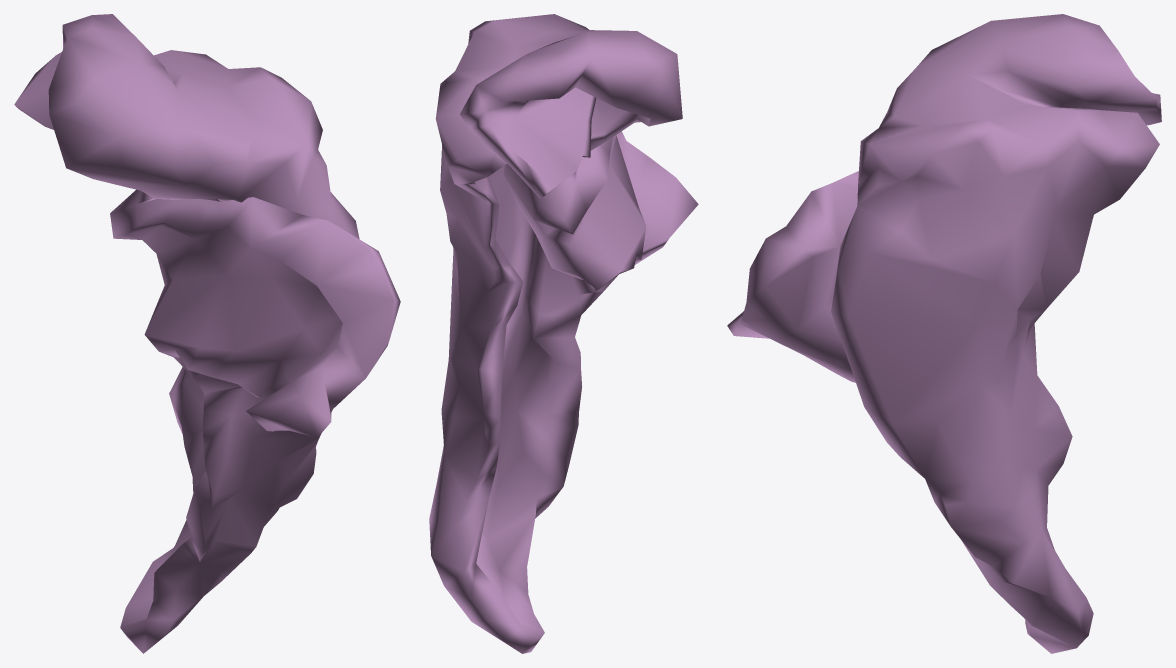
3 renders of one model, left to right at view 1: azimuth 30°, elevation 25°; view 2: azimuth 150°, elevation 25°; view 3: azimuth 270°, elevation 25°, orthographic. The views are drawn at different scales.
Visible parts, largest first — view 1: 右侧楔叶; view 2: 右侧楔叶; view 3: 右侧楔叶.
Boxes of the visible parts, box(x1,y1,x2,y2) form: 右侧楔叶: box(14, 14, 400, 653); 右侧楔叶: box(429, 14, 698, 653); 右侧楔叶: box(727, 14, 1161, 653).
Size of the model in its own units: 0.0287 by 0.0728 by 0.0472.
